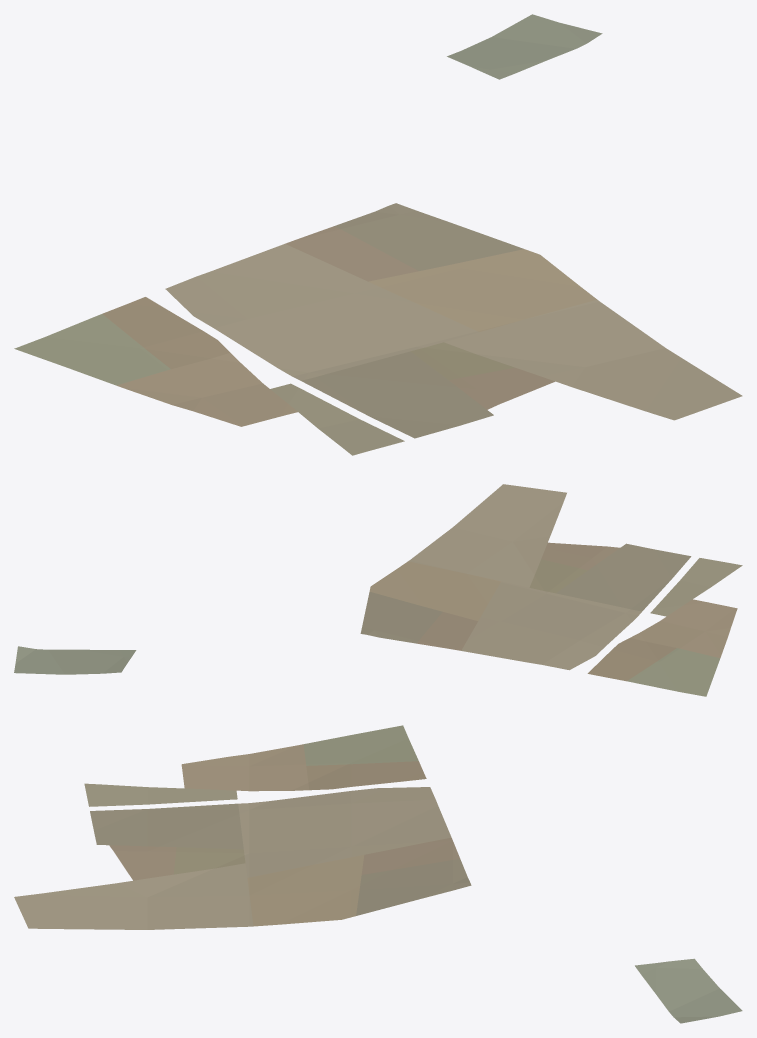
The model's file is farm_10_9_soil.glb.
The picture shows the model from 3 angles, top to bottom: view 1: azimuth 30°, elevation 25°; view 2: azimuth 150°, elevation 25°; view 3: azimuth 270°, elevation 25°; orthographic projection. The views are drawn at different scales.
Parts seen in each view (by area): view 1: geometry_0; view 2: geometry_0; view 3: geometry_0.
Boxes of the visible parts, x1,y1,x2,y2 form: geometry_0: [14, 14, 742, 455]; geometry_0: [14, 484, 742, 696]; geometry_0: [14, 725, 742, 1023].
Bounding box in the file's own units: 566 × 14.63 × 573.
